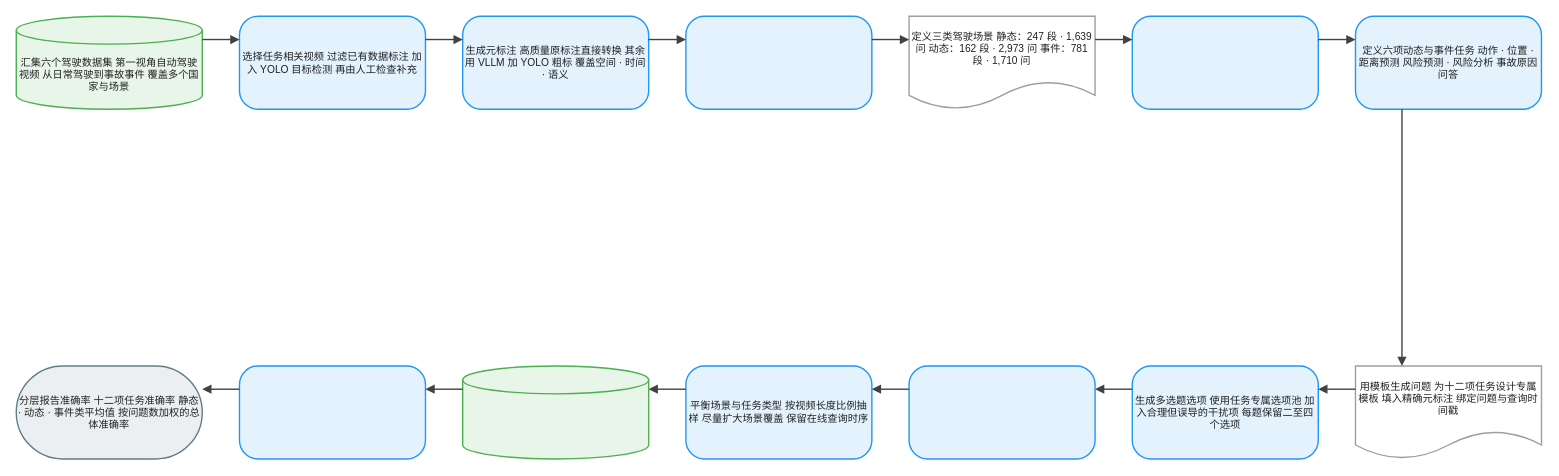
Some shapes in this 1559 by 476 pixel diagram are drawn without their labels. The shapes that lost their labels are listed below. From the top down, each one's box as (x1, y1, x2, y2) in pixels, then its label:
(685, 15, 872, 110): 结构化人工核验 人工检查粗标结果 修正时空细节 保留精确任务证据
(1131, 15, 1319, 110): 定义六项静态目标任务 实时感知 · 历史记忆 驾驶决策 · 关键信息抽取 幻觉检测 · 交通变化检测
(238, 365, 426, 459): 以在线视频模式评测 按每秒一帧处理流式视频 只使用查询时刻之前内容 回答每个多选问题
(462, 365, 649, 459): 发布 ODV-Bench 1,190 段独立视频 · 5–90 秒 6,322 个问答对 平均查询时间 18.9 秒
(908, 365, 1095, 459): 执行多轮人工复审 检查问题清晰度与准确性 检查干扰项合理性 修正无效问答对
